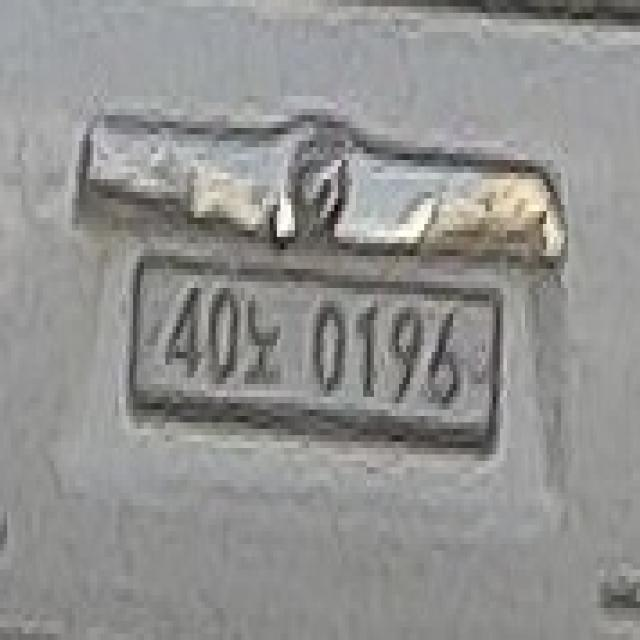plat: (125, 255, 506, 454)
